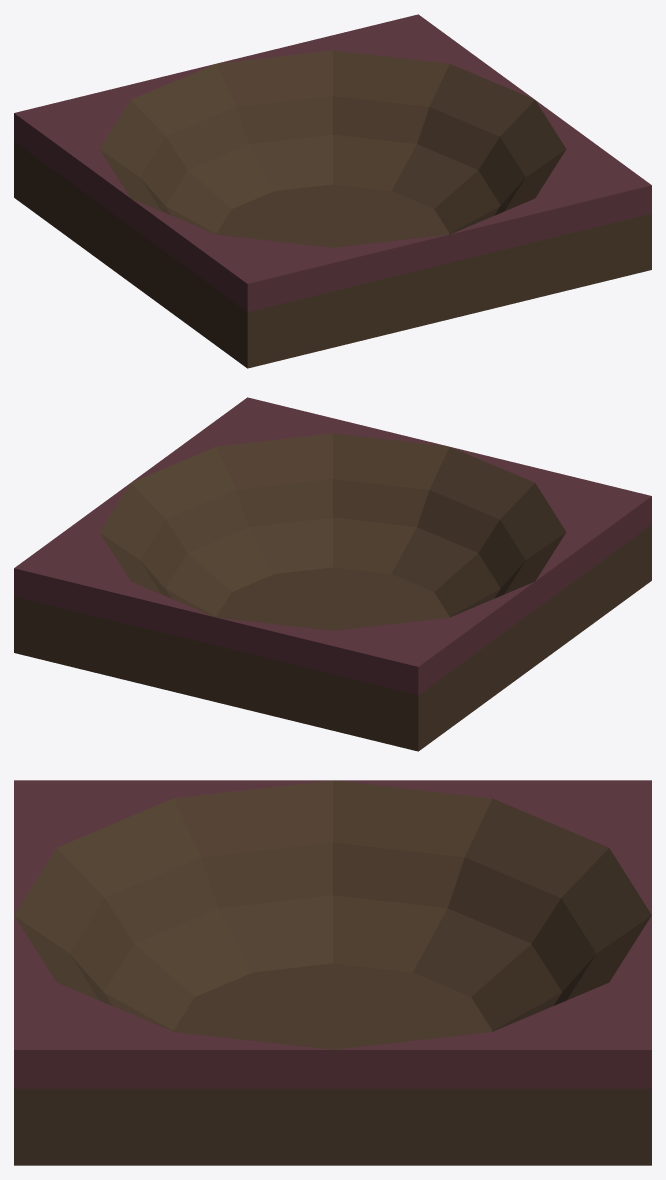
The model's file is tiles-tile-hole-big.glb.
3 renders of one model, top to bottom at view 1: azimuth 30°, elevation 25°; view 2: azimuth 150°, elevation 25°; view 3: azimuth 270°, elevation 25°, orthographic. The views are drawn at different scales.
Visible parts, largest first — view 1: tile-hole-big; view 2: tile-hole-big; view 3: tile-hole-big.
Part boxes in pixels (<box>): tile-hole-big: <box>14,14,651,368</box>; tile-hole-big: <box>14,397,651,751</box>; tile-hole-big: <box>14,780,651,1165</box>.
Size of the model in its own units: 30 by 6 by 30.
